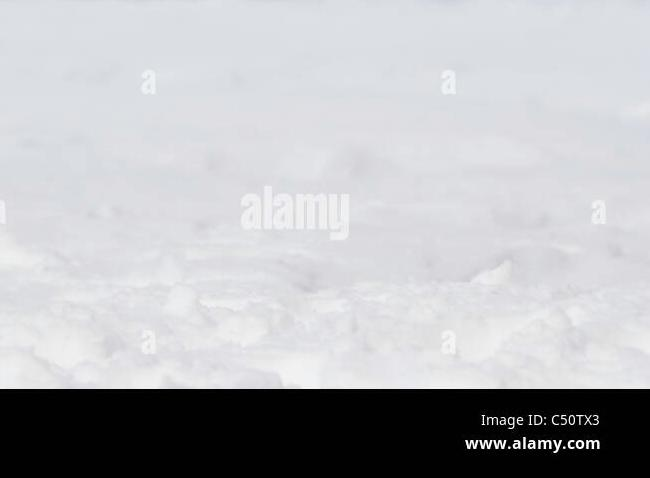Emperor Penguin: (0, 0, 9, 348)
